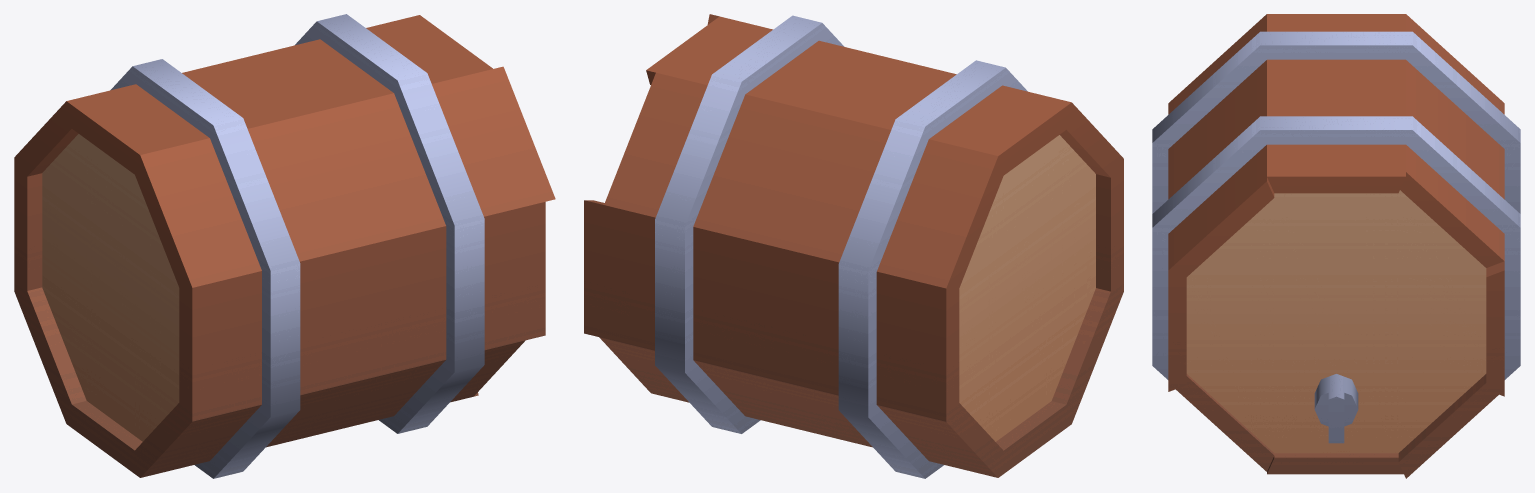
The model's file is barrel_2.glb.
3 views of the same model, side by side, from view 1: azimuth 30°, elevation 25°; view 2: azimuth 150°, elevation 25°; view 3: azimuth 270°, elevation 25° (orthographic). The views are drawn at different scales.
Parts seen in each view (by area): view 1: barrel; view 2: barrel; view 3: barrel.
Boxes of the visible parts, box(x1,y1,x2,y2) form: barrel: box(14, 14, 555, 478); barrel: box(584, 14, 1123, 478); barrel: box(1152, 14, 1520, 478).
Size of the model in its own units: 0.76 by 0.6789 by 0.6789.
Materials: 1 (1 with a texture image).
